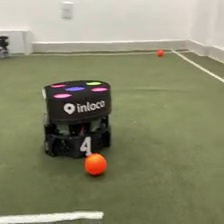ball: (83, 152, 108, 176), (156, 48, 164, 56)
goal: (1, 29, 34, 57)
robot: (39, 78, 115, 159), (1, 34, 10, 59)
